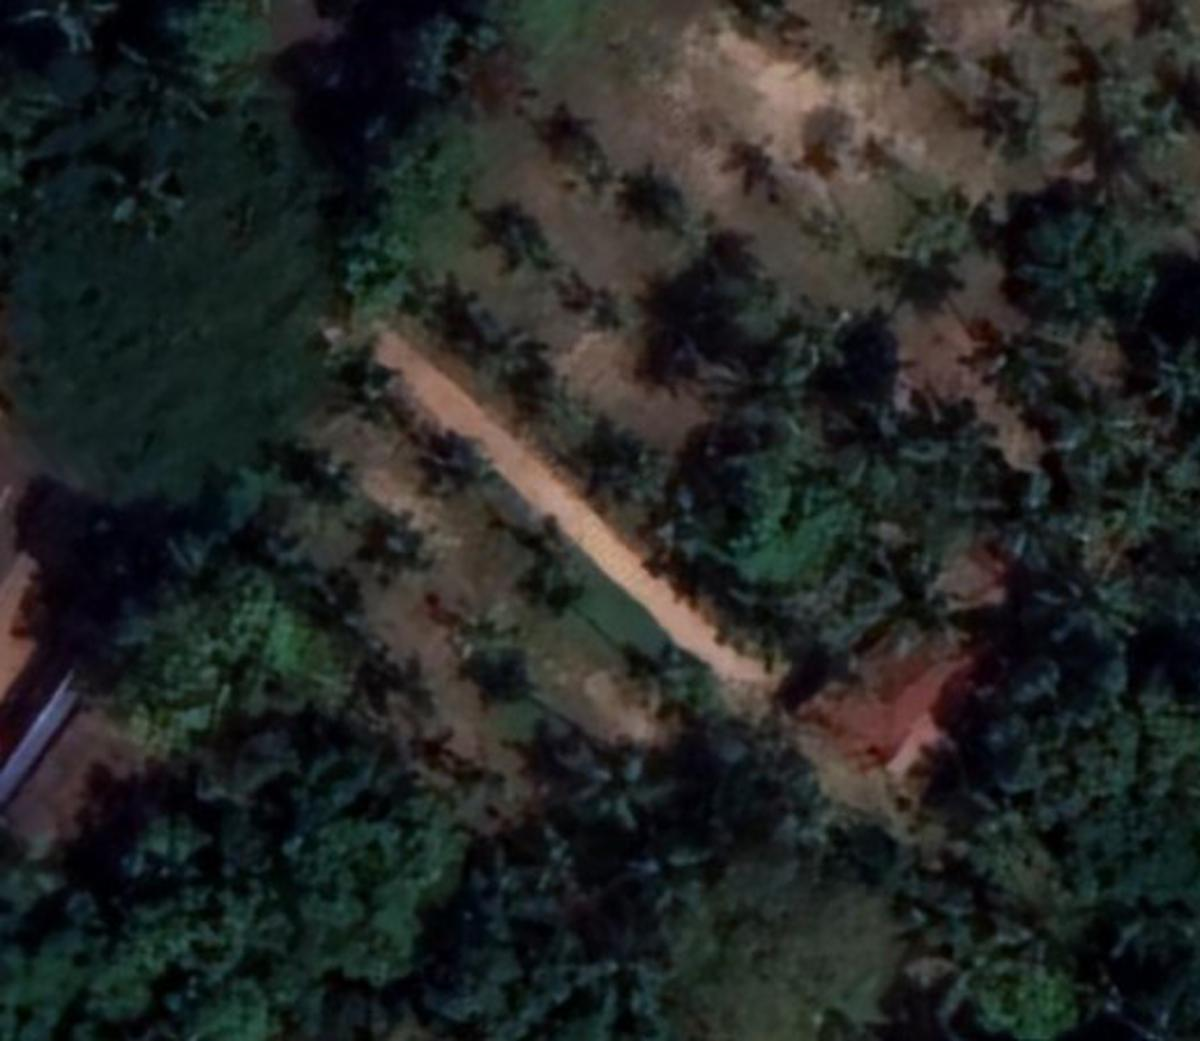coconut: (900, 902, 1022, 1031), (838, 541, 955, 642), (1029, 568, 1142, 667), (829, 398, 937, 499), (578, 732, 672, 845), (709, 336, 806, 428), (974, 462, 1066, 557), (449, 603, 538, 697), (96, 158, 184, 244), (412, 432, 497, 511), (428, 278, 497, 368), (900, 186, 974, 267), (513, 525, 589, 601), (476, 214, 555, 278), (621, 156, 688, 224), (509, 361, 576, 426), (370, 508, 435, 573), (538, 101, 601, 161), (568, 278, 626, 343)
